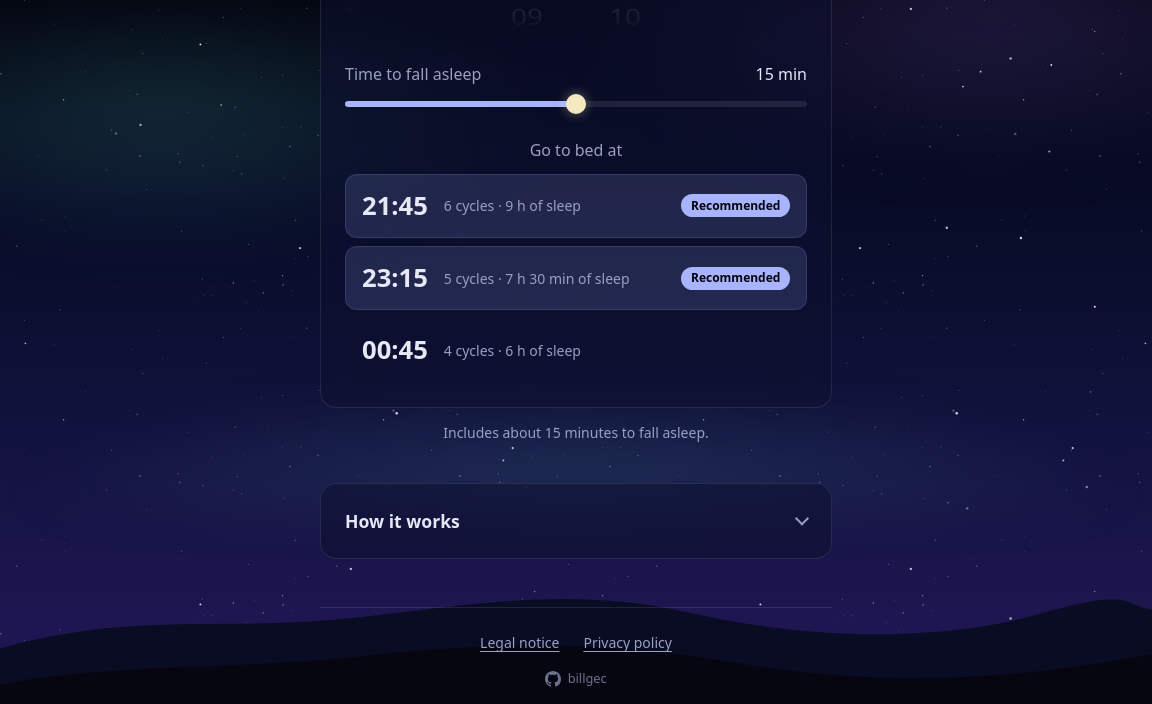
App › opens the legal pages from the footer
(page scrolled)
Click the link "Privacy policy" at (628, 643), box [583,632,672,653]
(page scrolled)
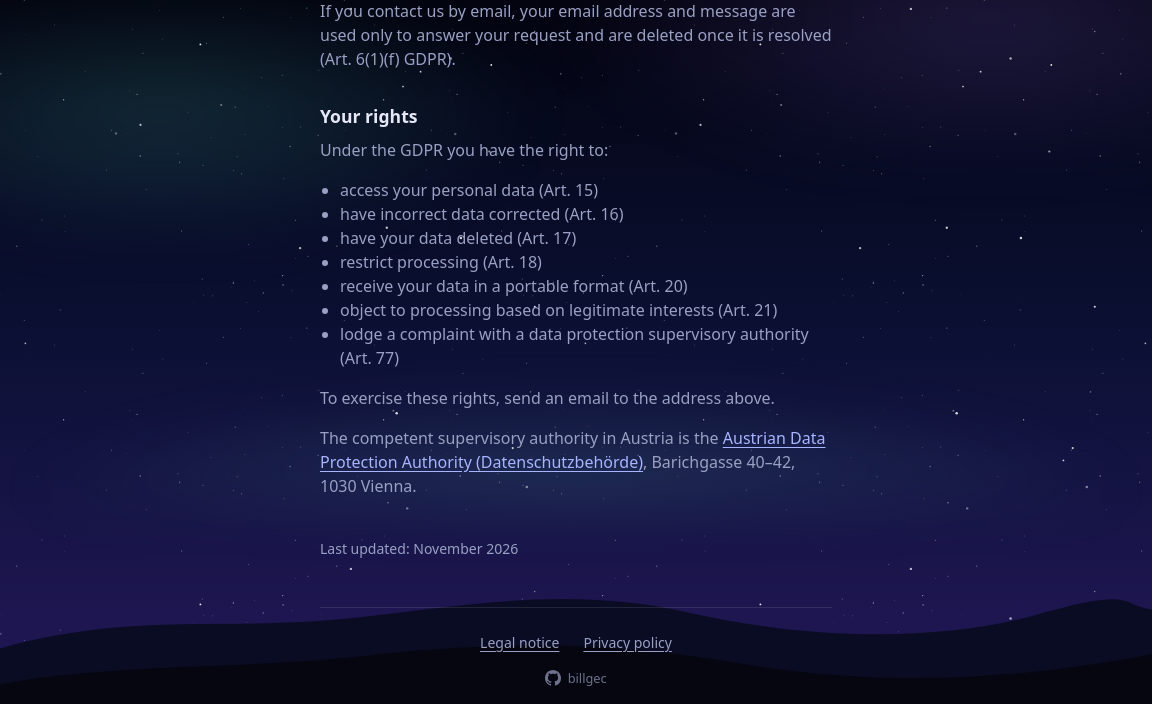
expect the heading "Ninety" is not shown: met
Click the link "Legal notice" at (520, 642), box [480,632,560,652]
(page scrolled)
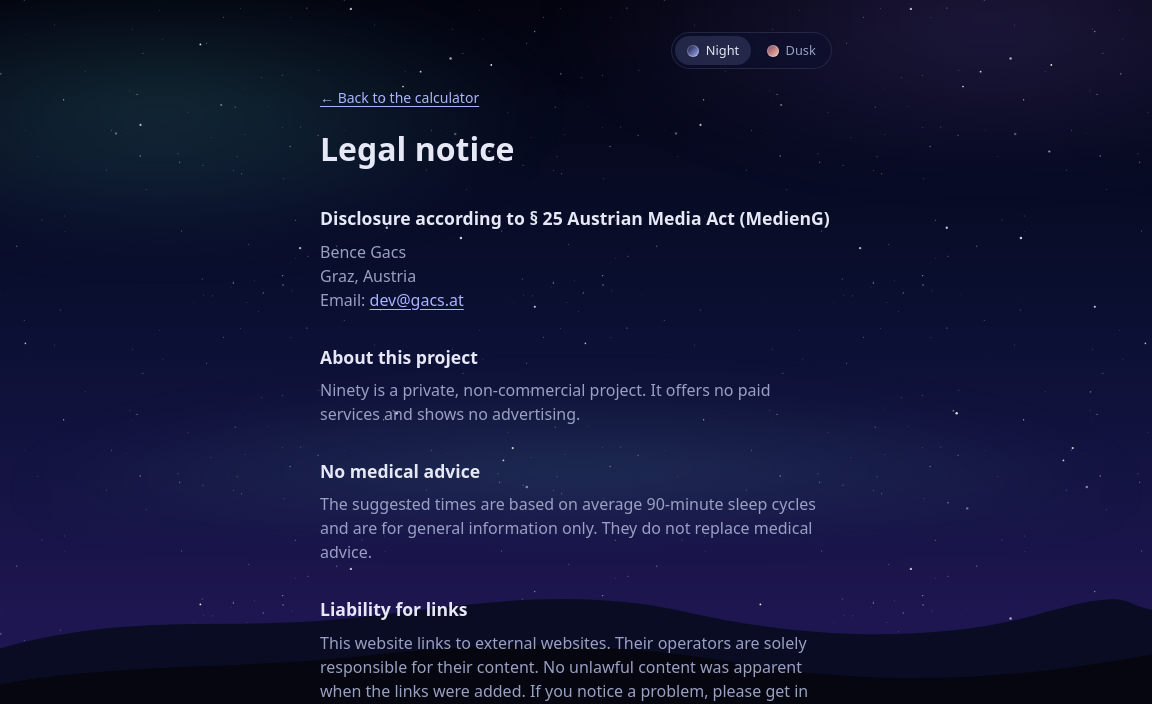
expect the heading "Legal notice" is shown: met, box [320,127,514,170]
Click the link "← Back to the calculator" at (400, 98), box [320,88,479,107]
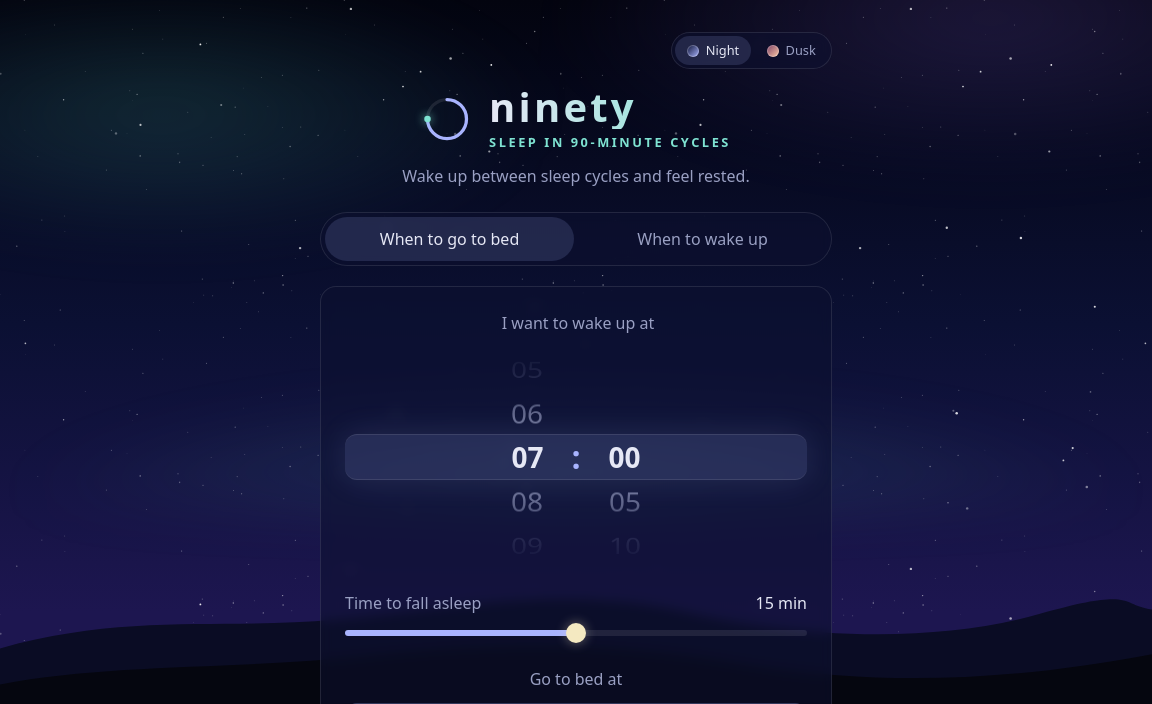
expect the heading "Ninety" is shown: met, box [489,85,731,129]
